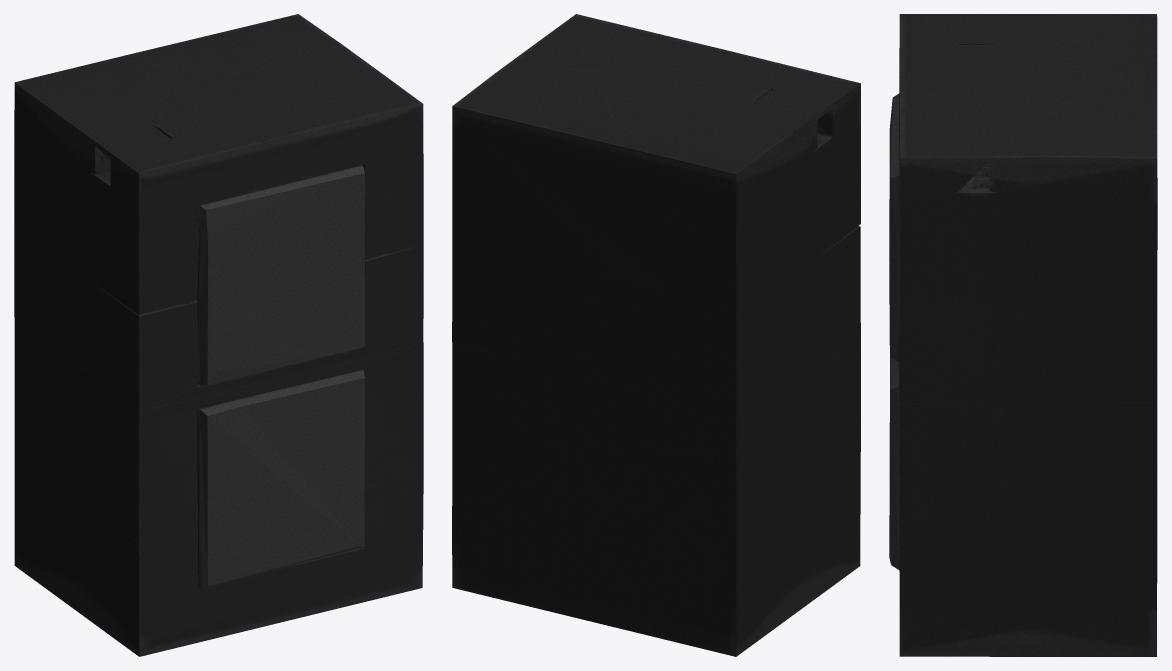
The model's file is panel_ai_grey.glb.
3 views of the same model, side by side, from view 1: azimuth 30°, elevation 25°; view 2: azimuth 150°, elevation 25°; view 3: azimuth 270°, elevation 25° (orthographic). The views are drawn at different scales.
Bounding box in the file's own units: 1.18 × 1.91 × 0.9311.
Materials: 1 (1 with a texture image).
